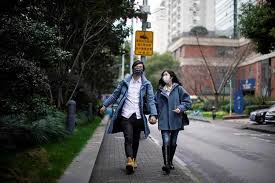mask: (158, 66, 177, 87), (129, 56, 146, 76)
